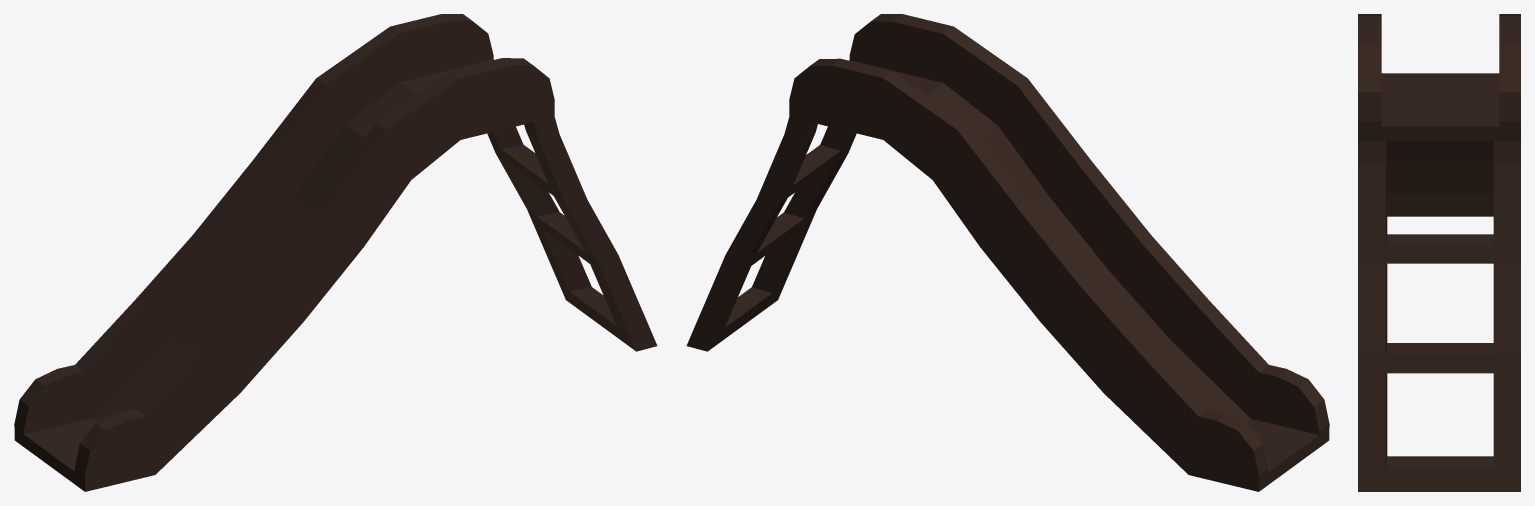
Rendered from slide.obj.
The picture shows the model from 3 angles, left to right: view 1: azimuth 30°, elevation 25°; view 2: azimuth 150°, elevation 25°; view 3: azimuth 270°, elevation 25°; orthographic projection. The views are drawn at different scales.
Visible parts, largest first — view 1: Plane; view 2: Plane; view 3: Plane.
Boxes of the visible parts, box(x1,y1,x2,y2) form: Plane: box(14, 14, 657, 491); Plane: box(686, 14, 1329, 491); Plane: box(1358, 14, 1520, 491).
Size of the model in its own units: 6.38 by 3.43 by 1.36.
